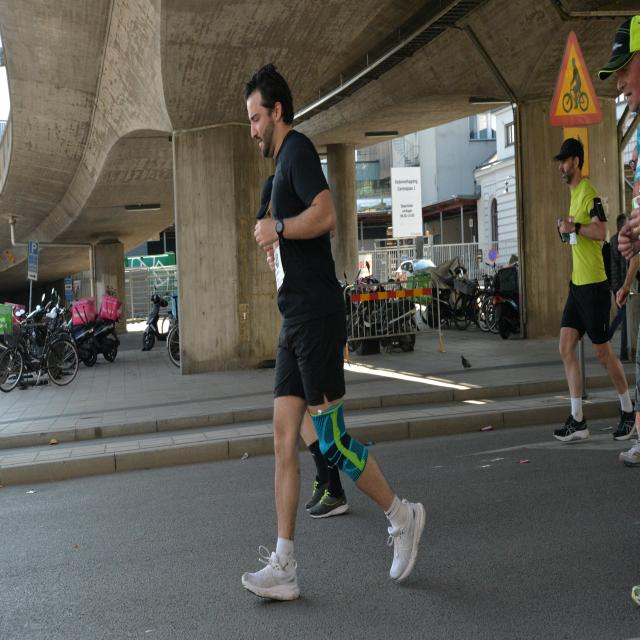runner-detect: (227, 65, 434, 605), (548, 134, 634, 457)
